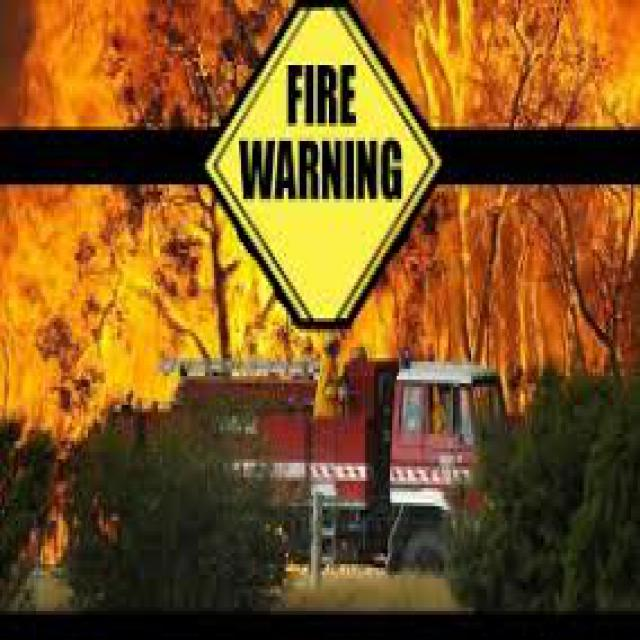fire: (18, 4, 638, 470)
